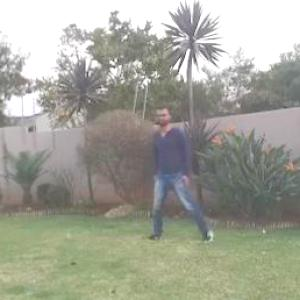follow: (152, 99, 189, 229)
